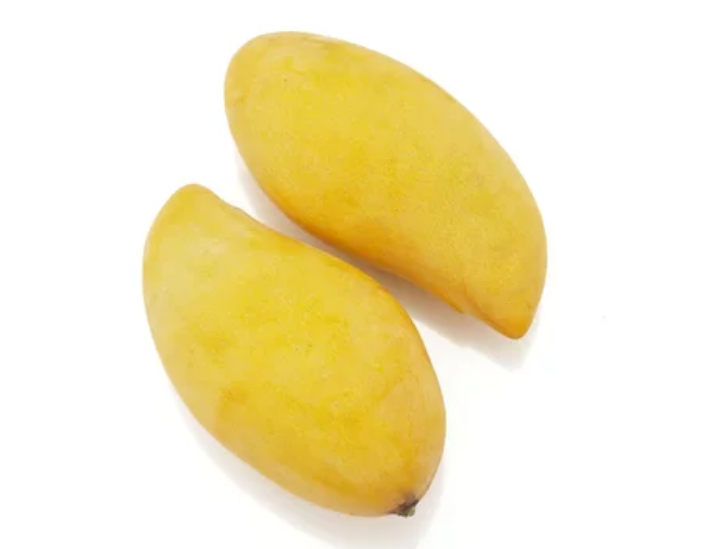mango: (138, 176, 451, 519), (222, 30, 553, 344)
